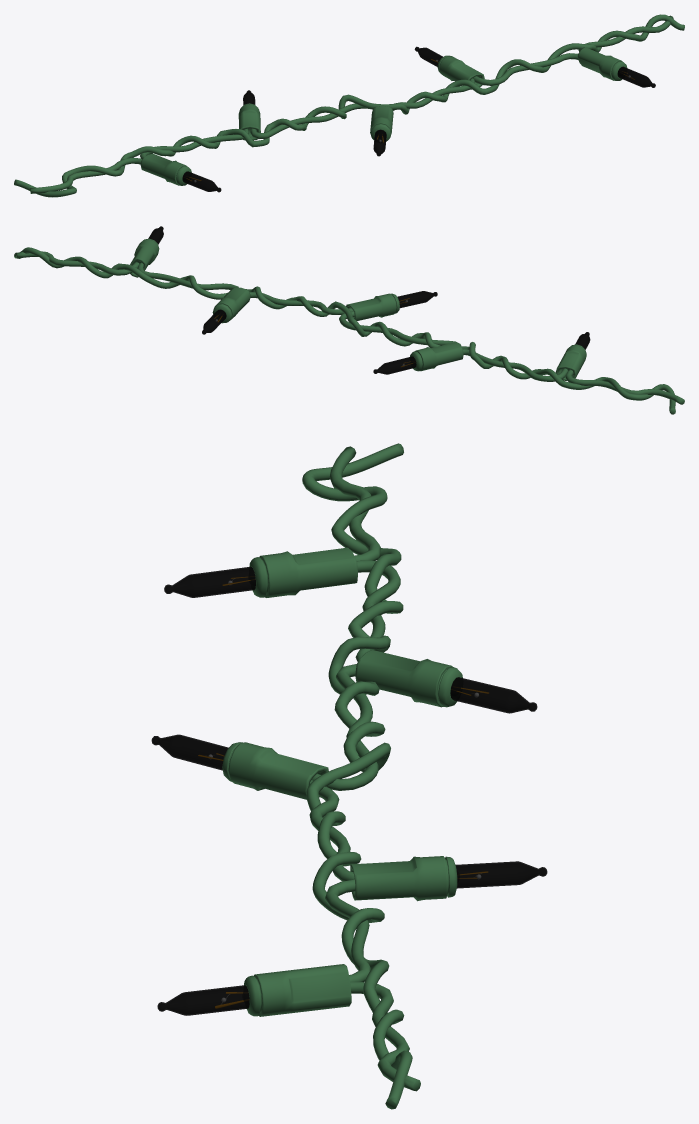
The model's file is string_christmas_light.fbx.
The picture shows the model from 3 angles, top to bottom: view 1: azimuth 30°, elevation 25°; view 2: azimuth 150°, elevation 25°; view 3: azimuth 270°, elevation 25°; orthographic projection. The views are drawn at different scales.
Parts seen in each view (by area): view 1: wire, plastic004_2, plastic004, plastic004_4, plastic004_5, plastic004_3, glass_2, glass, glass_4; view 2: wire, plastic004_3, plastic004_5, plastic004_4, plastic004_2, plastic004, glass_3, glass_5, glass_4; view 3: wire, plastic004, plastic004_4, plastic004_2, plastic004_3, plastic004_5, glass, glass_2, glass_4, glass_3, glass_5.
Part boxes in pixels (<box>): wire: <box>14,14,684,197</box>; plastic004_2: <box>140,153,191,185</box>; plastic004: <box>577,47,627,80</box>; plastic004_4: <box>437,55,484,89</box>; plastic004_5: <box>370,105,393,141</box>; plastic004_3: <box>238,103,260,140</box>; glass_2: <box>182,171,221,192</box>; glass: <box>617,66,655,87</box>; glass_4: <box>414,46,442,66</box>; wire: <box>14,247,684,414</box>; plastic004_3: <box>410,342,463,371</box>; plastic004_5: <box>346,293,399,320</box>; plastic004_4: <box>212,287,250,323</box>; plastic004_2: <box>555,344,586,380</box>; plastic004: <box>130,238,159,277</box>; glass_3: <box>373,356,416,374</box>; glass_5: <box>397,291,437,308</box>; glass_4: <box>202,309,226,334</box>; wire: <box>302,443,420,1109</box>; plastic004: <box>244,964,351,1016</box>; plastic004_4: <box>350,856,457,901</box>; plastic004_2: <box>249,547,357,597</box>; plastic004_3: <box>355,650,462,707</box>; plastic004_5: <box>222,742,328,799</box>; glass: <box>157,985,249,1015</box>; glass_2: <box>164,566,255,597</box>; glass_4: <box>455,861,547,888</box>; glass_3: <box>450,677,537,713</box>; glass_5: <box>151,734,228,770</box>.
Size of the model in its own units: 98.49 by 2.91 by 25.49.
